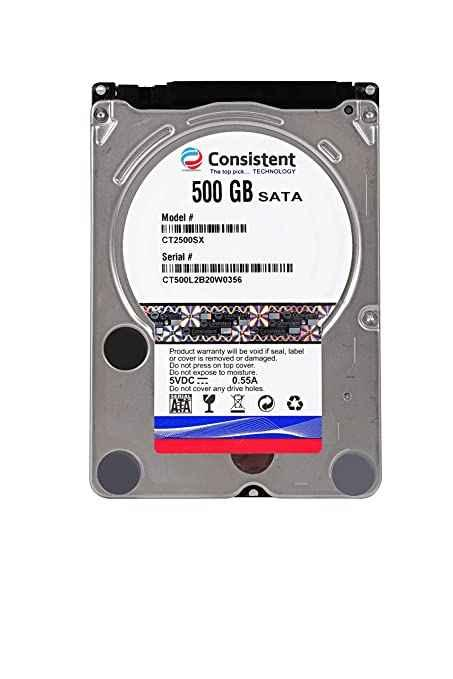internal HDD: (91, 79, 383, 501)
